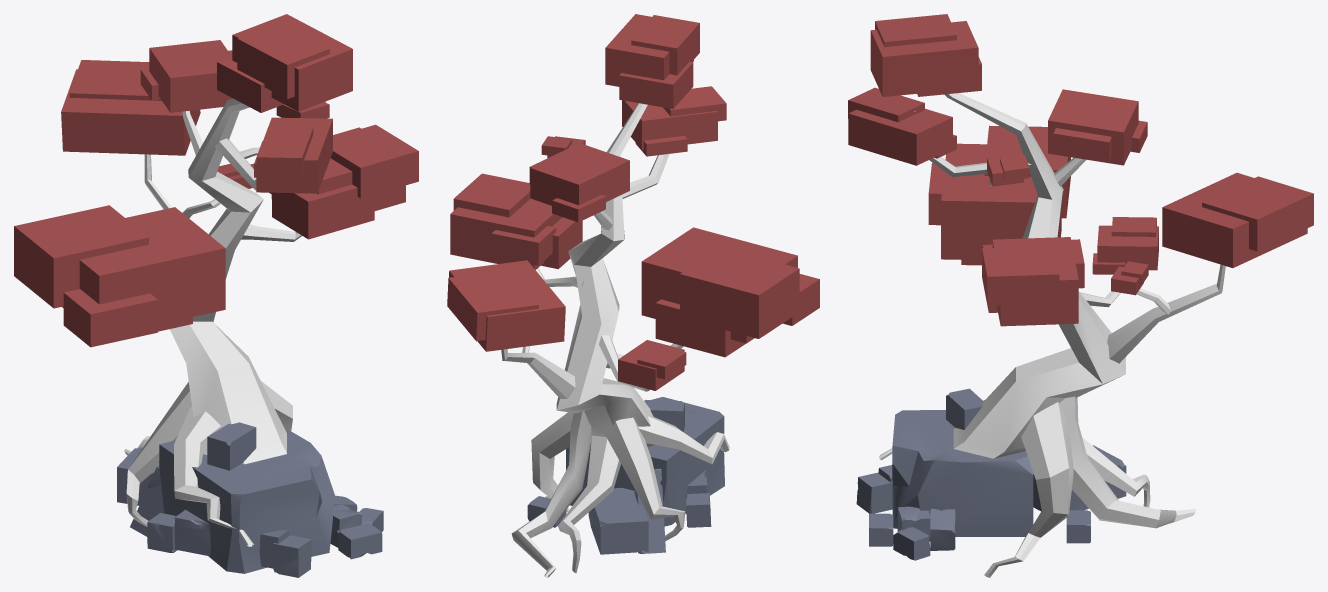
The model's file is SM_Tree_Ruins_B.fbx.
3 renders of one model, left to right at view 1: azimuth 30°, elevation 25°; view 2: azimuth 150°, elevation 25°; view 3: azimuth 270°, elevation 25°, orthographic. The views are drawn at different scales.
Parts seen in each view (by area): view 1: SM_Tree_Ruins; view 2: SM_Tree_Ruins; view 3: SM_Tree_Ruins.
Boxes of the visible parts, x1,y1,x2,y2 form: SM_Tree_Ruins: (14,14,418,577); SM_Tree_Ruins: (447,14,819,577); SM_Tree_Ruins: (848,14,1313,577).
Size of what is drawn, in the model's own units: 672 by 955 by 781.
